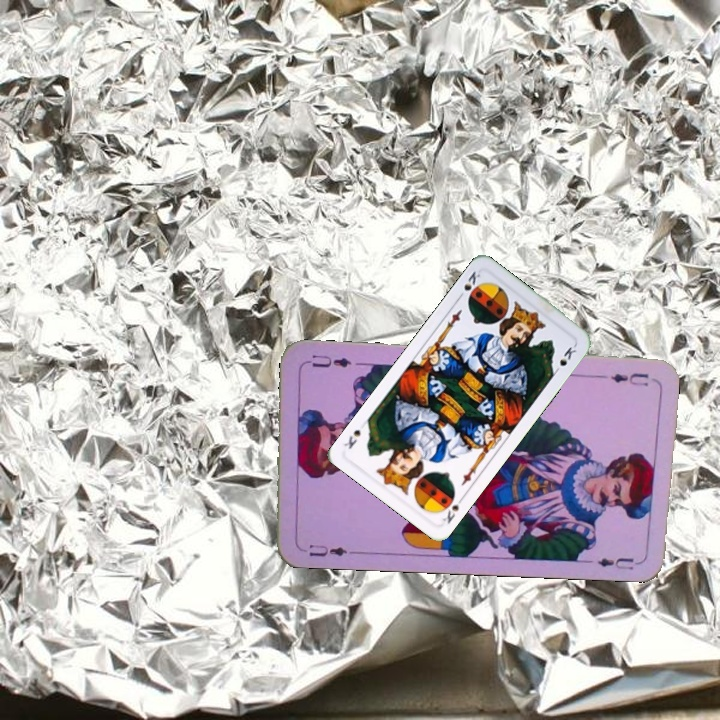EU: (305, 540, 356, 559), (607, 369, 651, 388)
SK: (453, 267, 483, 302), (438, 492, 467, 527)
